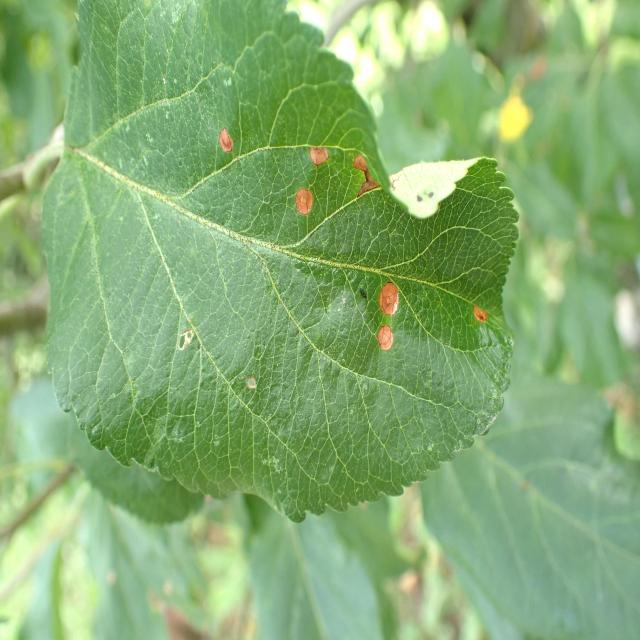frog-eye-leaf-spot: (39, 2, 520, 526)
